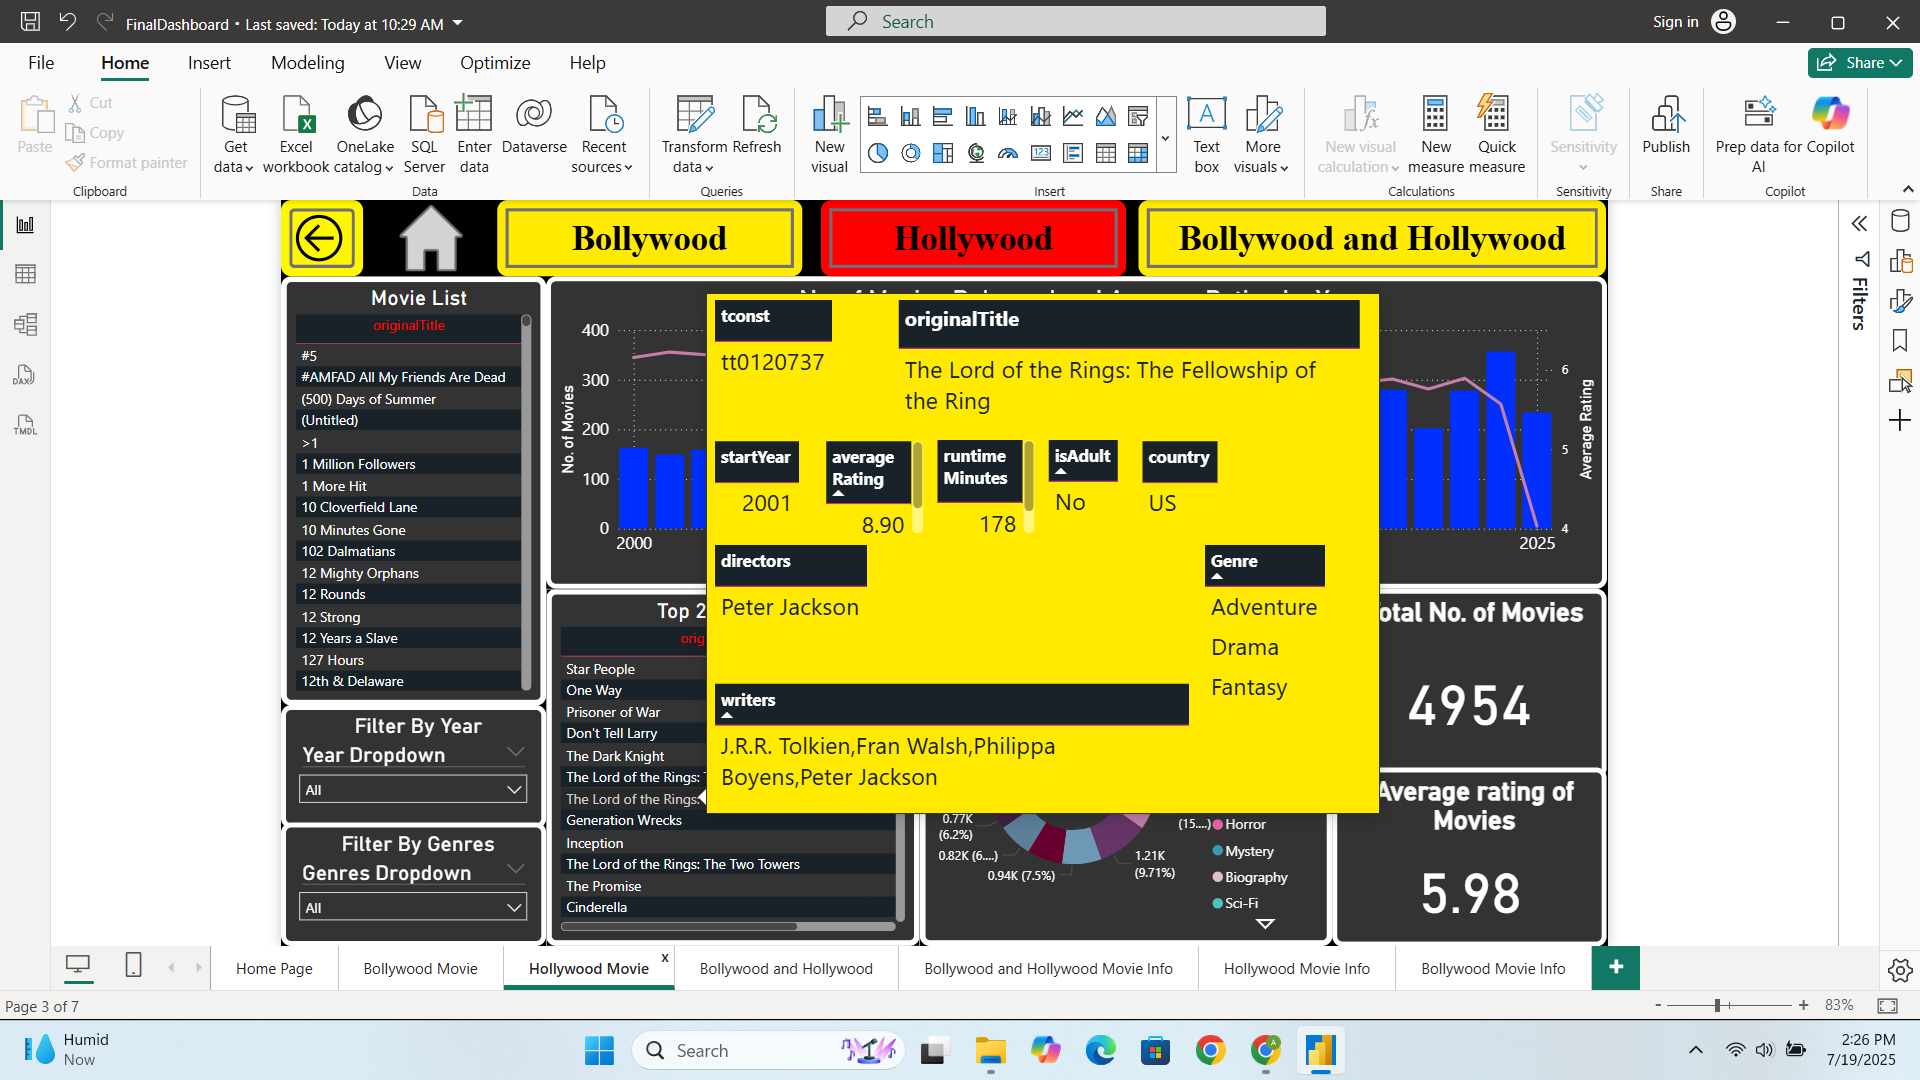

The dashboard page shown, as its layout file describes it:
{"tool":"powerbi","page":{"name":"Hollywood Movie","canvas":[1280,720],"ordinal":2},"visuals":[{"type":"card","title":"Total No. of Movies","fields":{"Values":["Hollywood_allDataMerged.HollyCountRows"]},"box":[1014.7,374.8,265,183.5],"z":0},{"type":"card","title":"Average rating of Movies","fields":{"Values":["Hollywood_allDataMerged.HollyAverageRating"]},"box":[1014.7,547.3,265,172.5],"z":1000},{"type":"lineStackedColumnComboChart","title":"No. of Movies Released and Average Rating by Year","fields":{"Category":["Hollywood_allDataMerged.startYear"],"Y":["CountNonNull(Hollywood_allDataMerged.tconst)"],"Y2":["Hollywood_allDataMerged.HollyAverageRating"]},"box":[255.4,73.6,1024.4,301.5],"z":2000},{"type":"donutChart","title":"Count of Movies according to Genre","fields":{"Category":["HollyGenre.Genre"],"Y":["CountNonNull(HollyGenre.tconst)"]},"box":[616.3,374.8,398.3,345],"z":3000},{"type":"slicer","title":"Filter By Year","fields":{"Values":["Hollywood_allDataMerged.startYear"]},"box":[0,487.7,255.6,119.2],"z":4000},{"type":"slicer","title":"Filter By Genres","fields":{"Values":["HollyGenre.Genre"]},"box":[0,600.6,255.6,119.2],"z":5000},{"type":"tableEx","title":"Movie List","fields":{"Values":["Hollywood_allDataMerged.originalTitle"]},"box":[0,73.7,255.6,414],"z":6000},{"type":"tableEx","title":"Top 20 Movie List","fields":{"Values":["Hollywood_allDataMerged.originalTitle","Hollywood_allDataMerged.averageRating","Hollywood_allDataMerged.startYear"]},"box":[255.6,374.8,360.7,345],"z":7000},{"type":"actionButton","box":[209.2,0,294.3,73.6],"z":8000},{"type":"actionButton","box":[520.8,0,294.3,73.6],"z":9000},{"type":"actionButton","box":[828.1,0,451.6,73.6],"z":10000},{"type":"actionButton","box":[0,0,79.4,73.6],"z":11000},{"type":"image","box":[90.9,0,108.2,73.6],"z":11001}]}

Visuals, with their boxes on the page's 1280x720 design canvas (x1, y1, x2, y2). These are canvas units, not pixel positions in the 1920x1080 screenshot, which may show the page scaled, cropped or inside an application window:
"Total No. of Movies" card: (left=1015, top=375, right=1280, bottom=558)
"Average rating of Movies" card: (left=1015, top=547, right=1280, bottom=720)
"No. of Movies Released and Average Rating by Year" lineStackedColumnComboChart: (left=255, top=74, right=1280, bottom=375)
"Count of Movies according to Genre" donutChart: (left=616, top=375, right=1015, bottom=720)
"Filter By Year" slicer: (left=0, top=488, right=256, bottom=607)
"Filter By Genres" slicer: (left=0, top=601, right=256, bottom=720)
"Movie List" tableEx: (left=0, top=74, right=256, bottom=488)
"Top 20 Movie List" tableEx: (left=256, top=375, right=616, bottom=720)
actionButton: (left=209, top=0, right=504, bottom=74)
actionButton: (left=521, top=0, right=815, bottom=74)
actionButton: (left=828, top=0, right=1280, bottom=74)
actionButton: (left=0, top=0, right=79, bottom=74)
image: (left=91, top=0, right=199, bottom=74)
